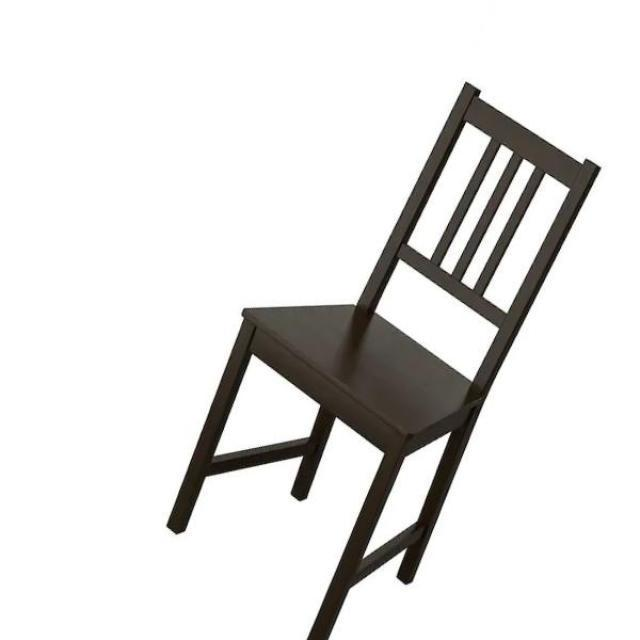chair: (161, 80, 602, 639)
